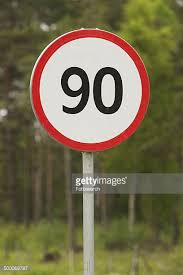Speed_limit_90km: (28, 28, 153, 154)
